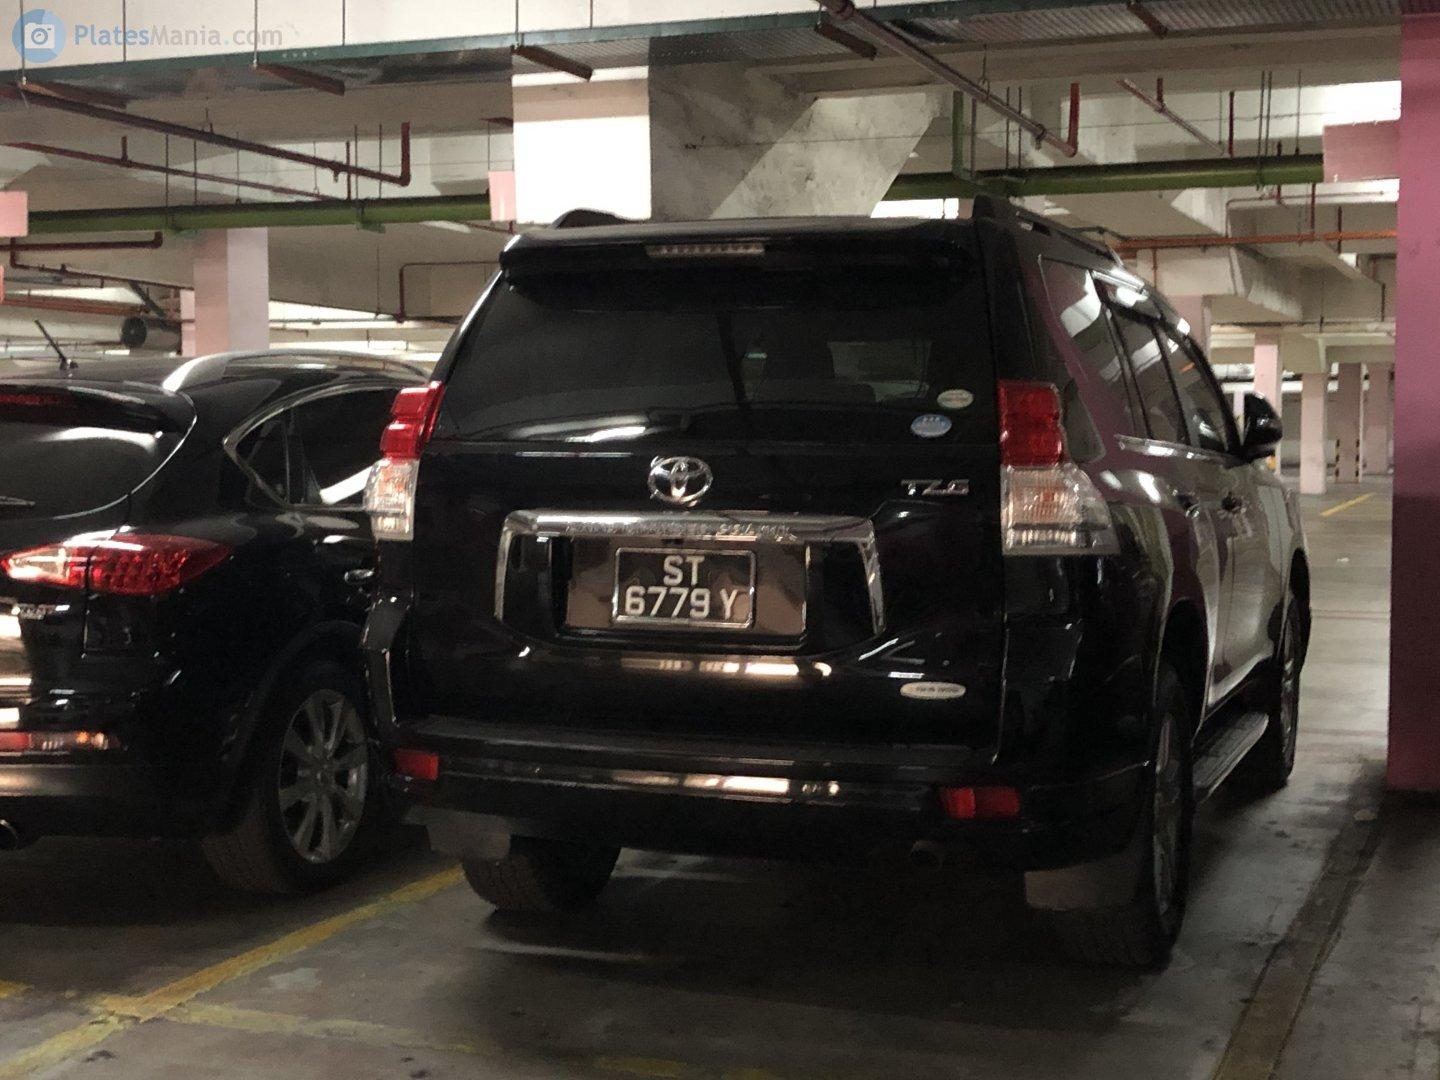License Plate: (612, 552, 754, 626)
